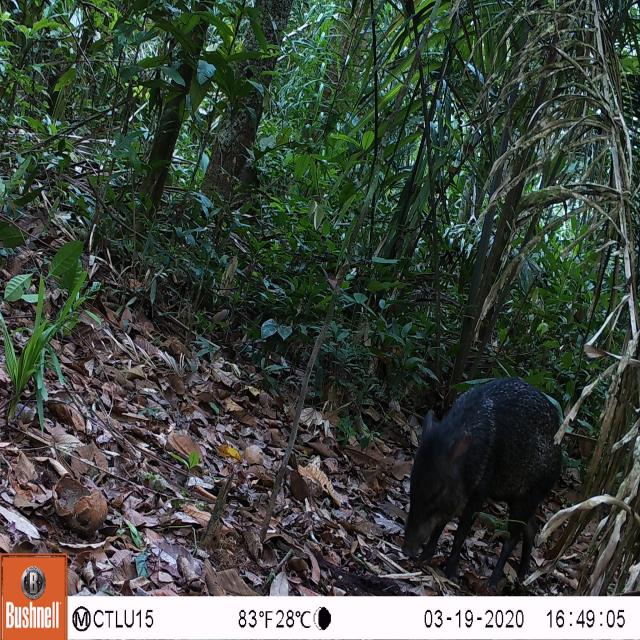White-lipped Peccary: (405, 376, 568, 590)
